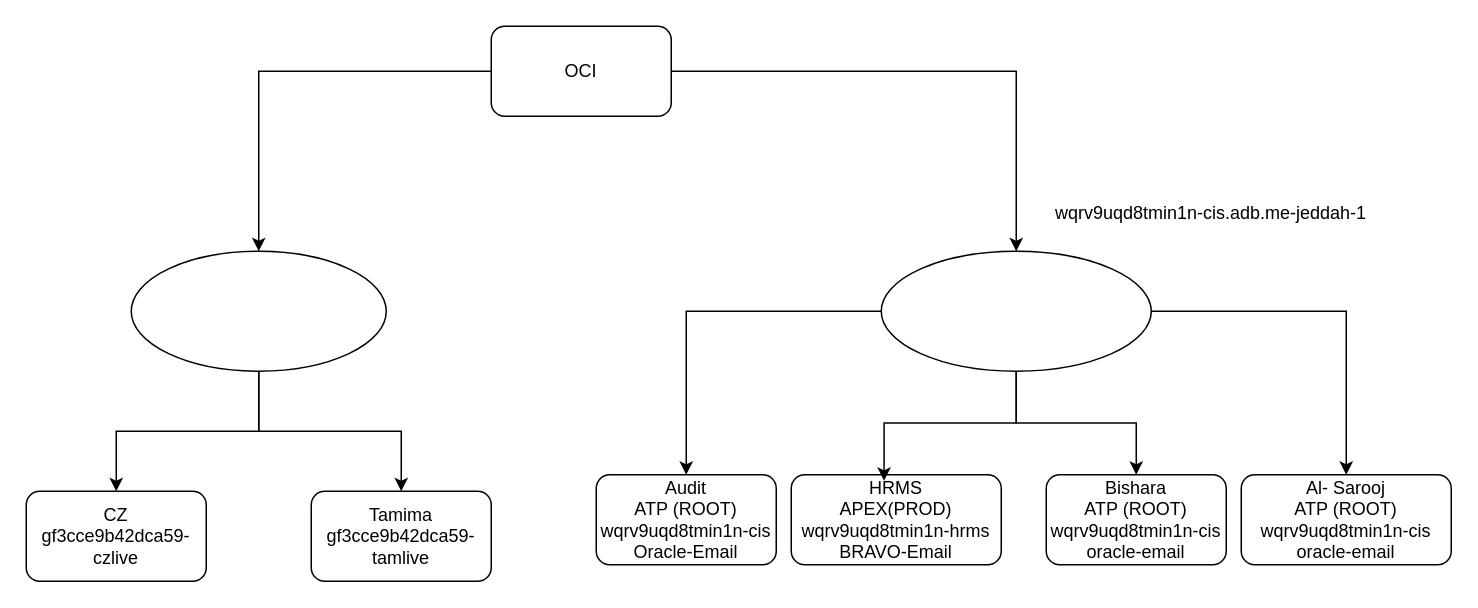
The diagram is 1478 pixels wide and 608 high, and some of its shapes have lost their labels. Here are the shapes that lost their labels. From the top down, the centre of each, then its label:
At point 258,310: "macscis bkg.gajera@gmail.com APEX as Service".
At point 1015,310: "way2cis 1983jignesh@gmail.com APEX on ATP".
